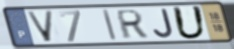7: (58, 10, 82, 43)
I: (101, 8, 118, 42)
J: (151, 8, 176, 40)
R: (115, 8, 149, 41)
U: (171, 5, 208, 41)
V: (24, 10, 56, 44)
